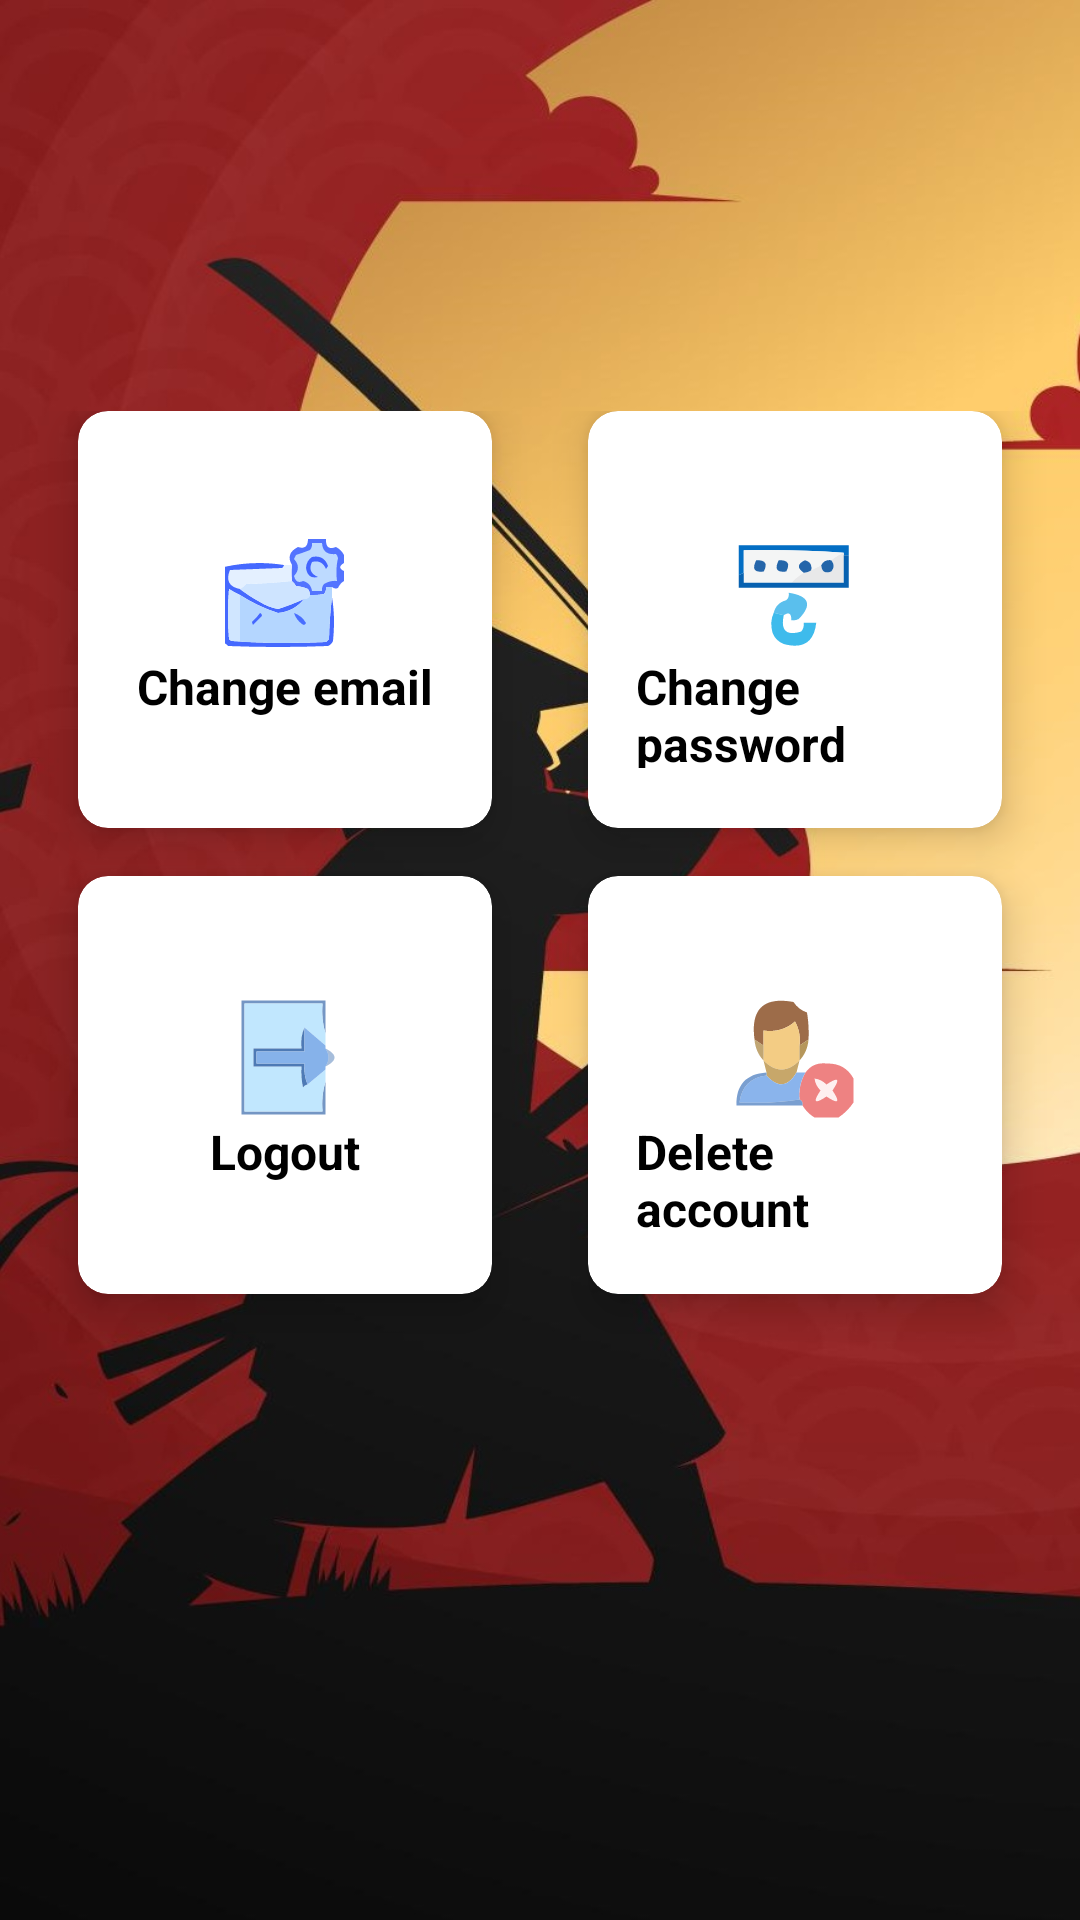

Locate icon controls on the screen. Image size 1080 × 1920, boxes as bbox=(x1, y1, x2, y2).
denied: bbox=(736, 1000, 854, 1118)
password reset: bbox=(738, 545, 849, 646)
